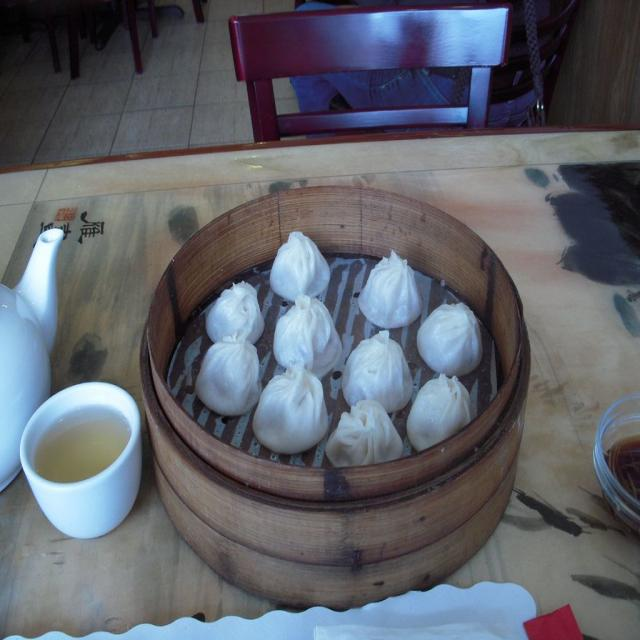Tea: (34, 400, 130, 482)
